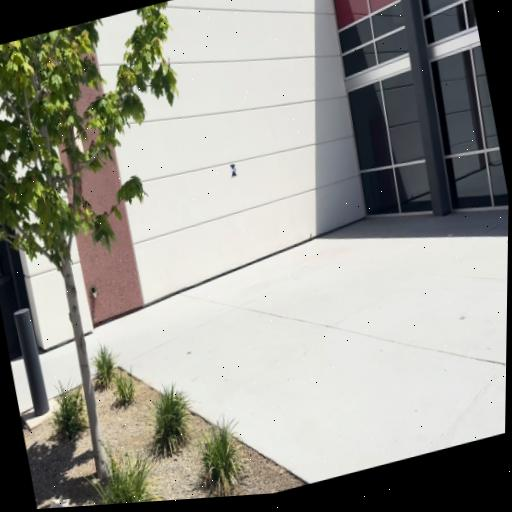target0: (230, 163, 238, 177)
